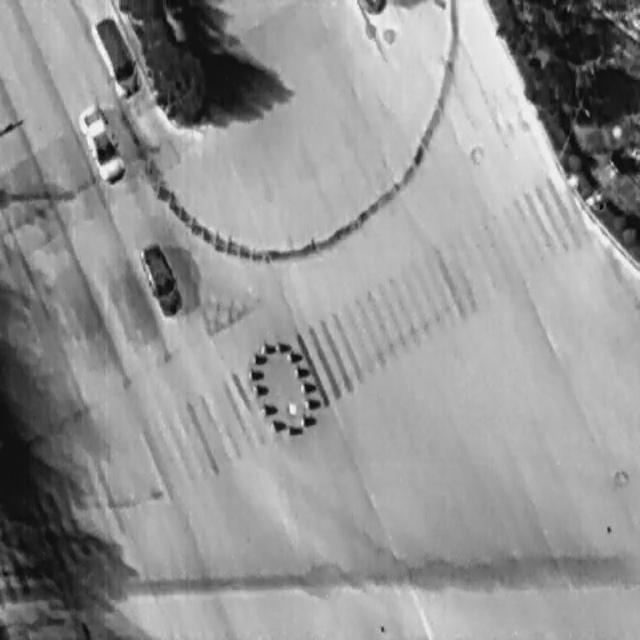Car: (84, 8, 145, 102), (75, 99, 130, 188), (134, 235, 185, 320)
